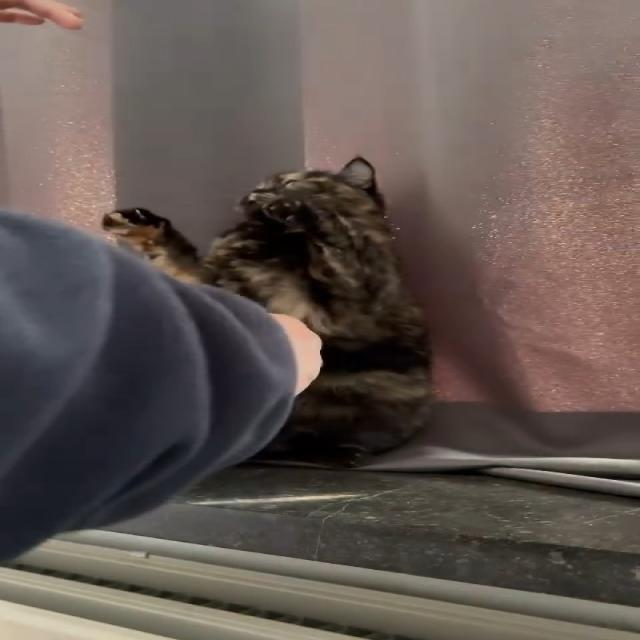authorized: (100, 154, 436, 468)
